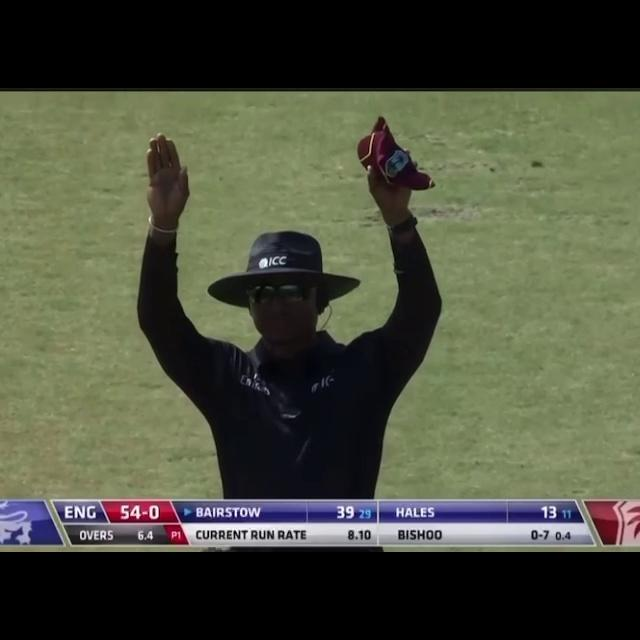umpire: (108, 107, 456, 522)
